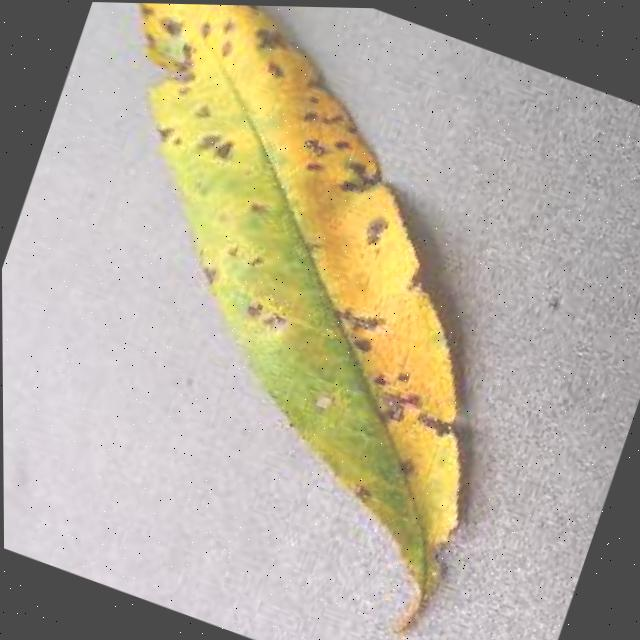Bacterial_spot: (179, 215, 295, 319), (350, 362, 446, 455), (304, 280, 400, 372), (144, 80, 237, 173), (274, 86, 364, 182), (121, 3, 223, 69), (181, 4, 266, 76), (233, 7, 302, 93), (346, 202, 399, 266), (333, 141, 381, 200)
